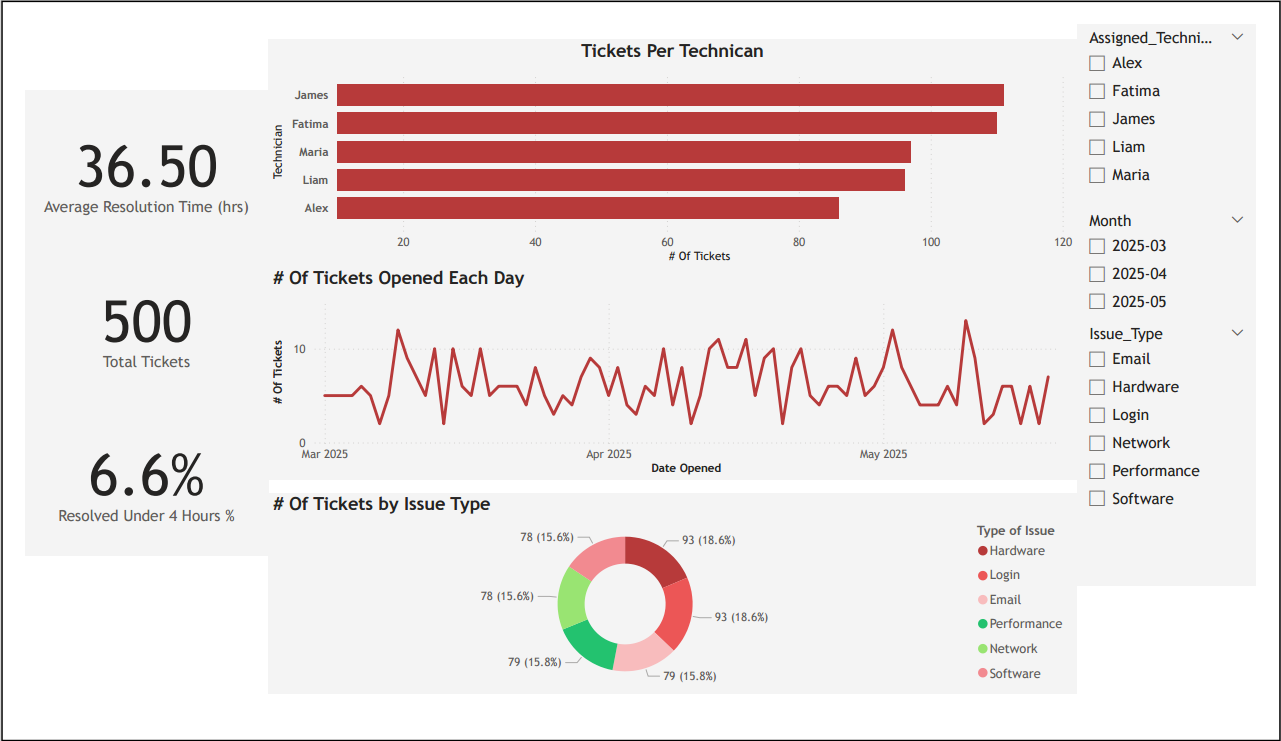

What the dashboard file says about the page in this screenshot:
{"tool":"powerbi","page":{"name":"Executive Overview","canvas":[1280,720],"ordinal":0},"visuals":[{"type":"card","fields":{"Values":["tickets.Total Tickets"]},"box":[0,233.9,252.8,159.7],"z":0},{"type":"card","fields":{"Values":["tickets.Average Resolution Time (hrs)"]},"box":[0,69.2,252.8,167.3],"z":1000},{"type":"card","fields":{"Values":["tickets.Resolved Under 4 Hours %"]},"box":[0,393.6,252.8,159.7],"z":2000},{"type":"clusteredBarChart","title":"Tickets Per Technican","fields":{"Y":["tickets.Ticket_ID"],"Category":["tickets.Assigned_Technician"]},"box":[252.8,16.3,841.3,236.4],"z":3000},{"type":"donutChart","title":"# Of Tickets by Issue Type","fields":{"Category":["tickets.Issue_Type"],"Y":["tickets.Ticket_ID"]},"box":[252.8,488,841.3,208.8],"z":4000},{"type":"lineChart","title":"# Of Tickets Opened Each Day","fields":{"Y":["tickets.Ticket_ID"],"Category":["tickets.Opened_Date"]},"box":[252.8,252.8,841.3,221.3],"z":5000},{"type":"slicer","fields":{"Values":["tickets.Assigned_Technician"]},"box":[1094.1,0,186.1,236.4],"z":6000},{"type":"slicer","fields":{"Values":["tickets.Month"]},"box":[1094.1,189.9,186.1,125.8],"z":7000},{"type":"slicer","fields":{"Values":["tickets.Issue_Type"]},"box":[1094.1,308.1,186.1,275.4],"z":9000},{"type":"textbox","box":[64.3,570,160,91.4],"z":9001}]}

Visuals, with their boxes on the page's 1280x720 design canvas (x1, y1, x2, y2). These are canvas units, not pixel positions in the 1281x741 screenshot, which may show the page scaled, cropped or inside an application window:
card - tickets.Total Tickets: rect(0, 234, 253, 394)
card - tickets.Average Resolution Time (hrs): rect(0, 69, 253, 236)
card - tickets.Resolved Under 4 Hours %: rect(0, 394, 253, 553)
"Tickets Per Technican" clusteredBarChart: rect(253, 16, 1094, 253)
"# Of Tickets by Issue Type" donutChart: rect(253, 488, 1094, 697)
"# Of Tickets Opened Each Day" lineChart: rect(253, 253, 1094, 474)
slicer - tickets.Assigned_Technician: rect(1094, 0, 1280, 236)
slicer - tickets.Month: rect(1094, 190, 1280, 316)
slicer - tickets.Issue_Type: rect(1094, 308, 1280, 584)
textbox: rect(64, 570, 224, 661)
